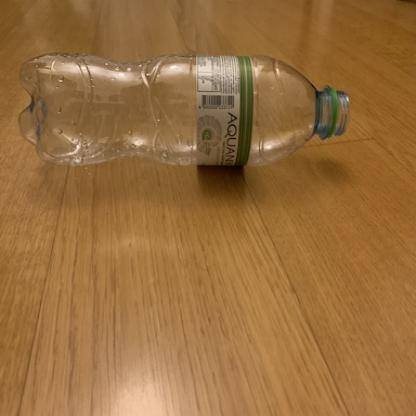trash: (19, 46, 354, 175)
